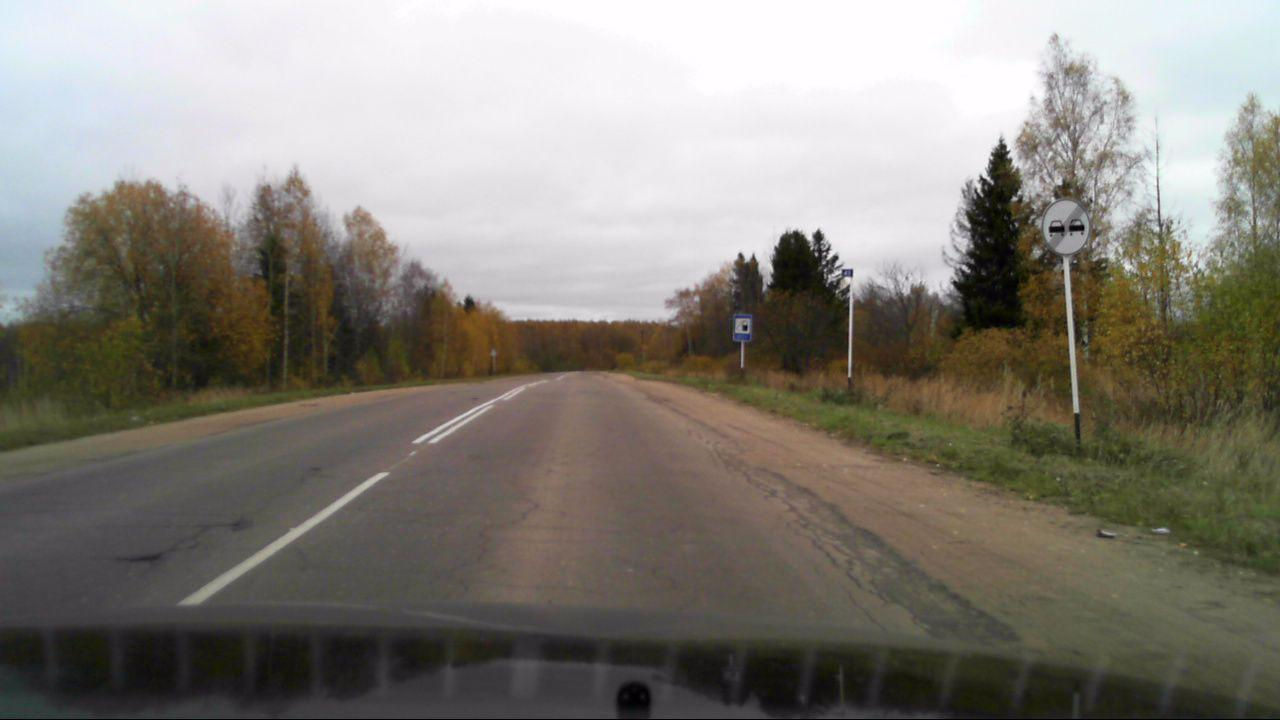3_21: (1041, 200, 1090, 254)
7_3: (733, 313, 752, 342)
